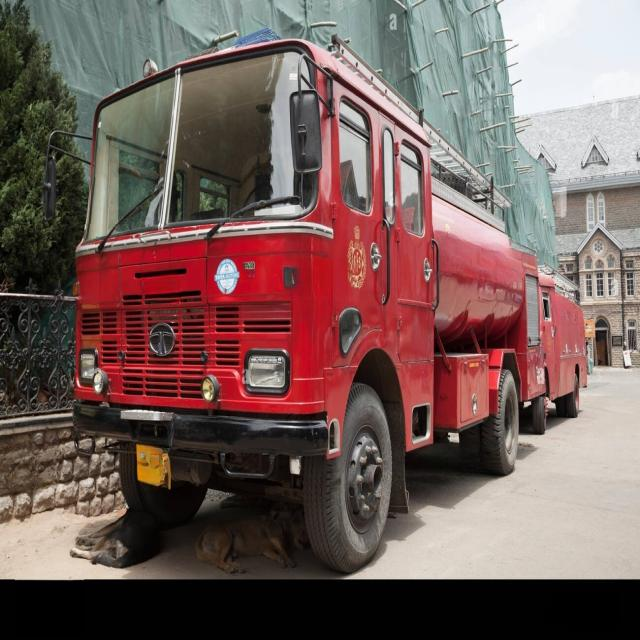emergency: (74, 33, 549, 571)
